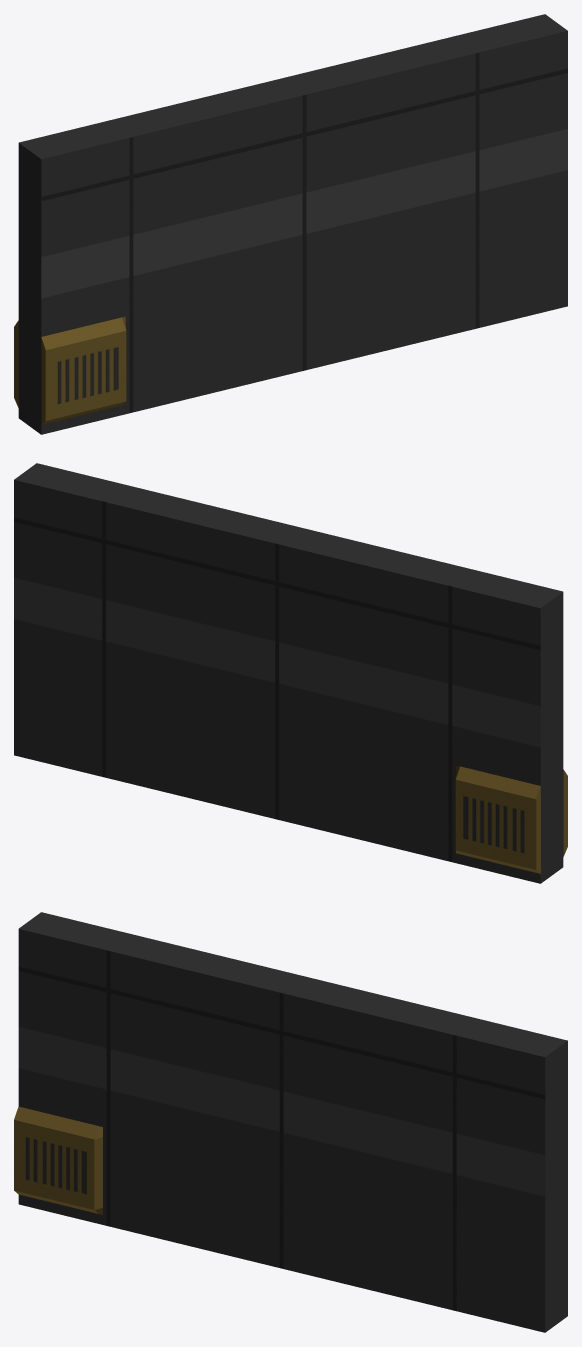
The model's file is Wall_06.fbx.
3 renders of one model, top to bottom at view 1: azimuth 30°, elevation 25°; view 2: azimuth 150°, elevation 25°; view 3: azimuth 330°, elevation 25°, orthographic.
Parts seen in each view (by area): view 1: Wall_06 Low Poly; view 2: Wall_06 Low Poly; view 3: Wall_06 Low Poly.
Part boxes in pixels (x1,y1,x2,y2): Wall_06 Low Poly: [14, 14, 567, 434]; Wall_06 Low Poly: [14, 463, 567, 883]; Wall_06 Low Poly: [14, 912, 567, 1332].
Bounding box in the file's own units: 400 × 200 × 41.87.
1 material, 1 textured.
